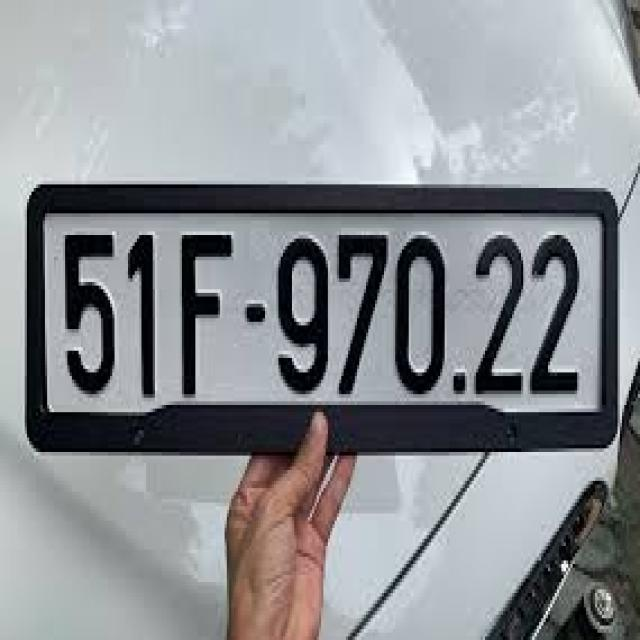bien_so: (32, 159, 633, 421)
